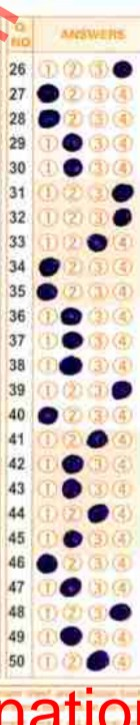filled circles: (86, 650, 109, 670), (59, 355, 81, 375), (112, 183, 134, 203), (60, 626, 82, 645), (37, 553, 57, 573), (37, 83, 58, 102), (60, 577, 81, 596), (62, 454, 83, 473), (38, 109, 60, 127), (109, 603, 131, 621), (62, 478, 81, 498), (38, 406, 58, 425), (39, 257, 59, 276), (88, 504, 108, 523), (112, 380, 131, 399), (87, 429, 107, 447), (62, 133, 82, 151), (87, 233, 107, 251), (63, 158, 82, 176), (113, 60, 132, 78), (37, 283, 57, 300), (62, 331, 82, 348), (61, 307, 81, 324), (113, 208, 131, 226), (63, 530, 82, 547)
